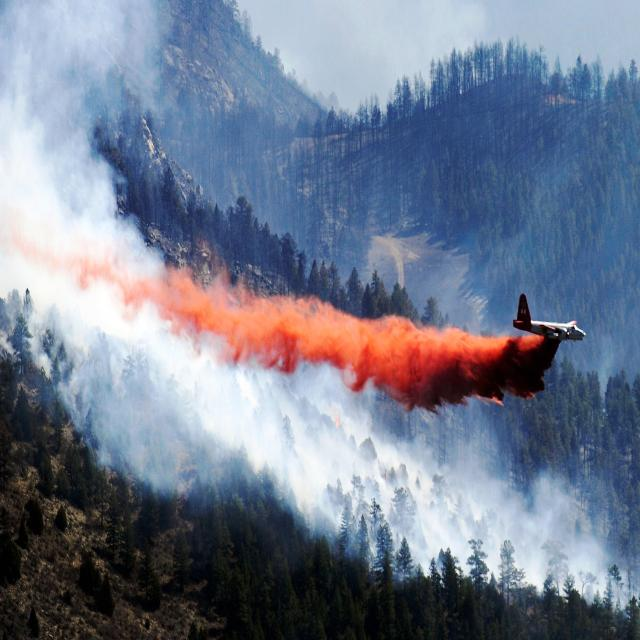asap: (1, 2, 636, 628)
